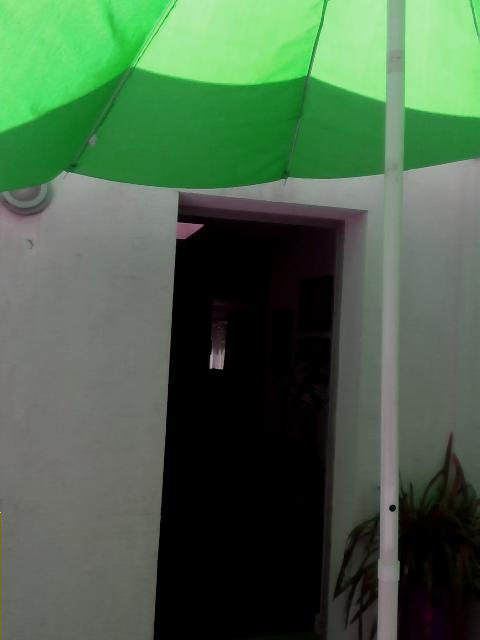open_door: (153, 191, 369, 638)
